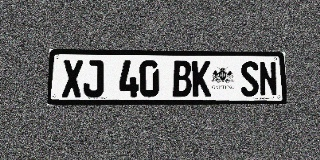0: (140, 60, 159, 97)
4: (119, 60, 139, 97)
B: (173, 61, 192, 97)
J: (83, 60, 104, 97)
K: (192, 61, 211, 97)
N: (259, 61, 278, 96)
S: (240, 61, 259, 97)
X: (62, 60, 83, 97)
